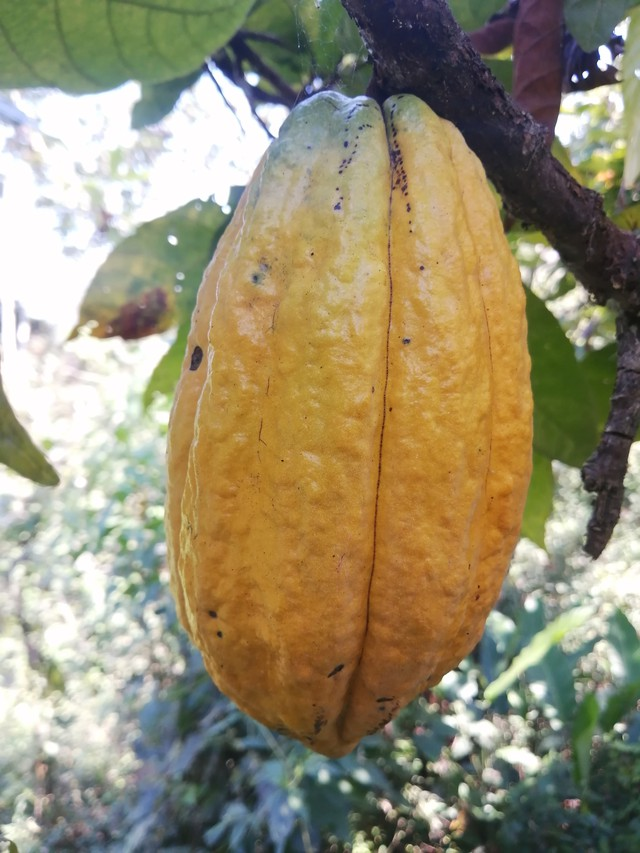Health: (139, 70, 560, 767)
